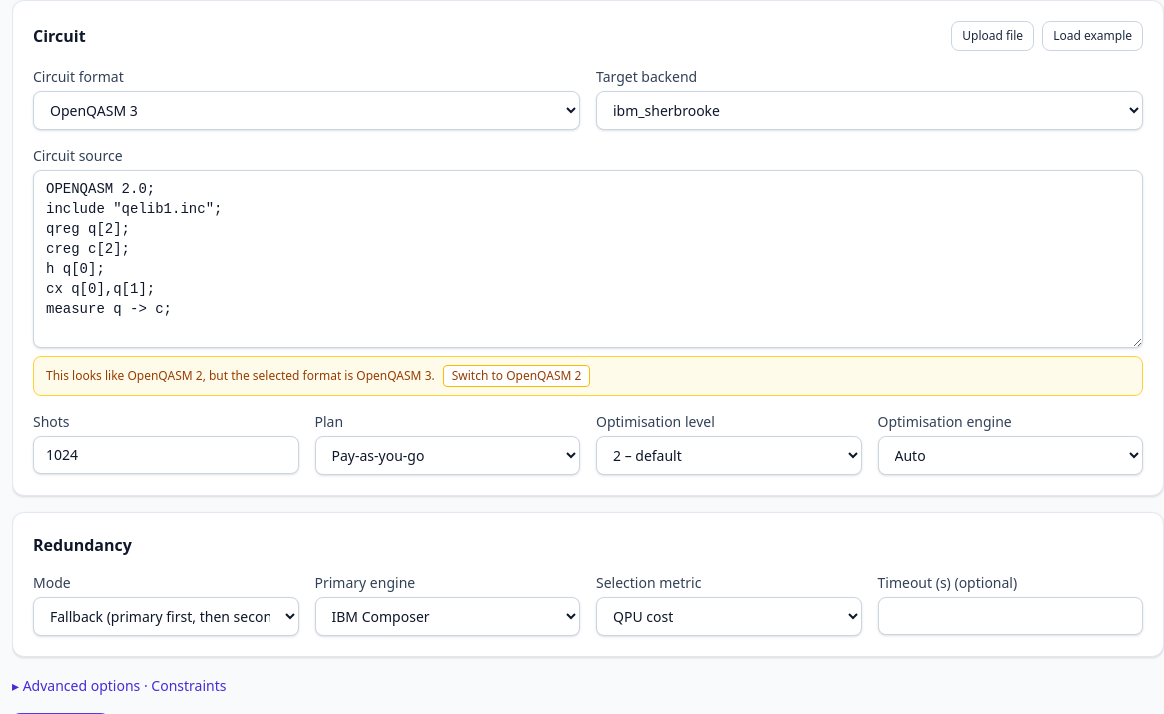
Test case: CircuitForm › shows the mismatch warning and switches format on click
The width and height of the screenshot is (1164, 714).
Expected: the text "This looks like OpenQASM 2" is shown, [46,367,435,384]
Click the button "Switch to OpenQASM 2".
click(517, 376)  # box [443,365,590,387]
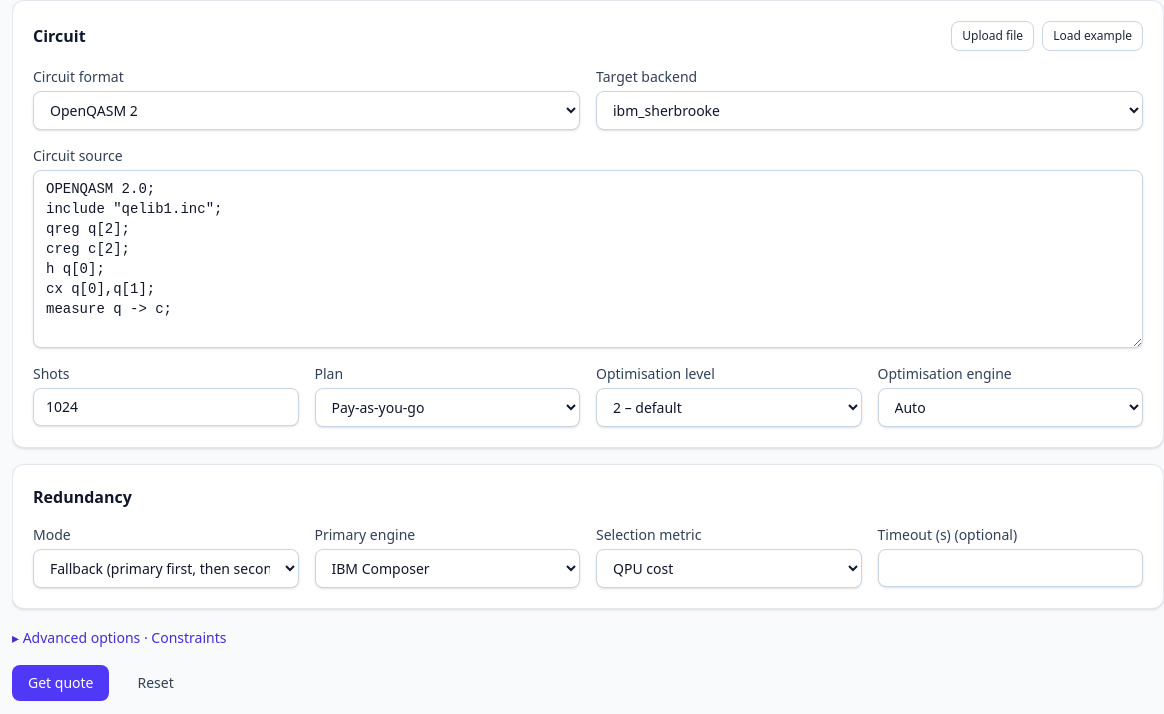
Expected: the text "This looks like OpenQASM 2" is gone
